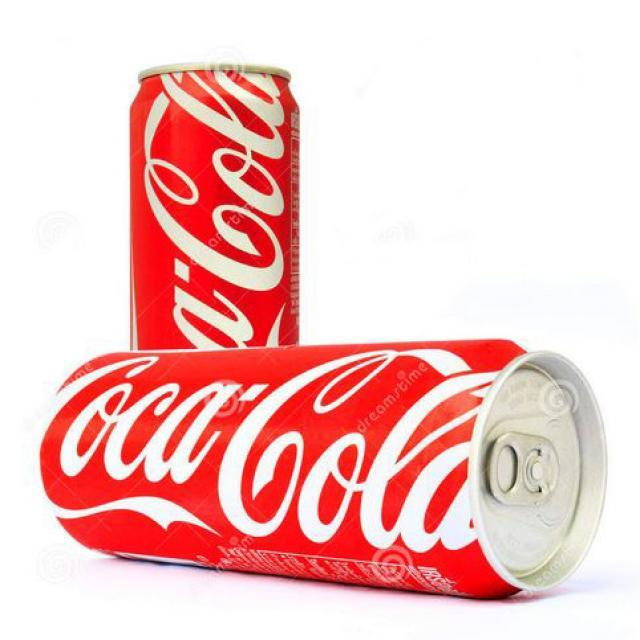coca-cola: (36, 336, 616, 604), (128, 62, 304, 354)
